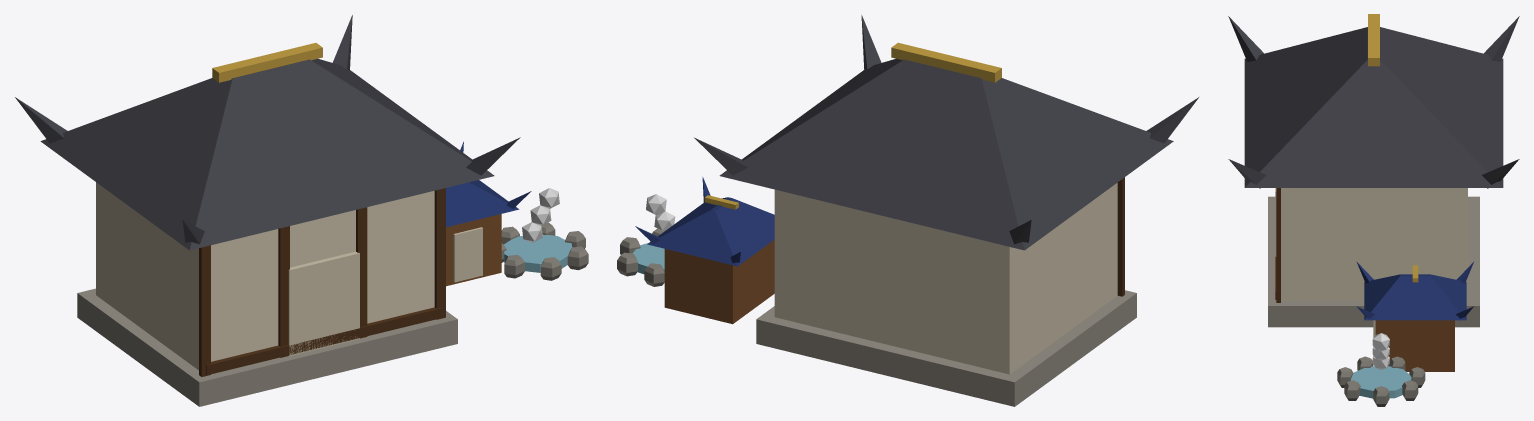
Rendered from macaque_hall.glb.
The picture shows the model from 3 angles, left to right: view 1: azimuth 30°, elevation 25°; view 2: azimuth 150°, elevation 25°; view 3: azimuth 270°, elevation 25°; orthographic projection. The views are drawn at different scales.
Visible parts, largest first — view 1: macaque_hall; view 2: macaque_hall; view 3: macaque_hall.
Boxes of the visible parts, x1=… form: macaque_hall: x1=15, y1=15, x2=588, y2=406; macaque_hall: x1=617, y1=15, x2=1198, y2=406; macaque_hall: x1=1228, y1=14, x2=1519, y2=406.
Size of the model in its own units: 6.03 by 3.22 by 3.6.
